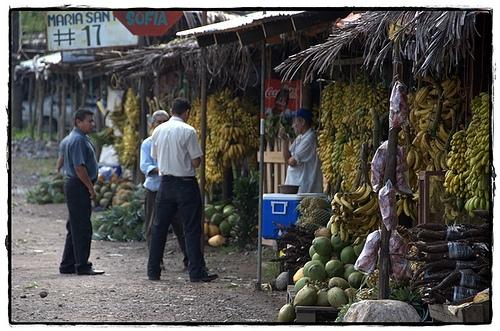banana: (353, 194, 375, 214), (362, 193, 380, 215), (353, 183, 371, 203), (410, 130, 426, 150), (406, 146, 416, 170), (412, 150, 422, 172), (357, 195, 371, 207), (440, 122, 449, 138), (475, 150, 488, 161), (403, 198, 410, 217), (340, 222, 346, 242), (435, 138, 444, 150), (322, 152, 332, 162), (419, 107, 433, 114), (342, 214, 353, 222), (239, 144, 246, 156), (482, 110, 490, 120), (462, 169, 472, 177), (232, 131, 238, 143), (474, 197, 480, 209), (426, 94, 438, 100), (342, 116, 350, 124), (476, 130, 484, 138), (346, 143, 353, 152), (446, 170, 456, 176), (325, 110, 331, 120), (346, 195, 352, 204), (454, 158, 460, 166), (472, 163, 476, 174), (352, 200, 358, 207), (230, 125, 234, 135), (348, 140, 352, 150), (226, 114, 230, 123), (486, 165, 490, 174), (451, 164, 457, 170), (328, 142, 334, 148), (350, 156, 356, 162), (212, 136, 216, 144), (360, 98, 368, 102), (209, 98, 213, 106), (224, 87, 228, 95), (221, 132, 225, 140), (195, 119, 201, 124), (323, 153, 329, 158), (466, 192, 470, 199), (338, 155, 342, 162), (212, 168, 216, 175), (216, 146, 220, 153), (192, 109, 196, 116), (127, 134, 134, 138), (472, 106, 478, 110), (226, 108, 230, 114), (242, 136, 246, 142), (320, 109, 324, 115), (338, 98, 342, 103), (367, 90, 372, 94), (342, 96, 346, 101), (326, 141, 332, 144), (346, 155, 349, 161), (480, 114, 484, 118), (132, 106, 136, 110), (131, 142, 135, 146), (128, 148, 132, 152), (250, 117, 252, 124), (127, 132, 134, 134), (242, 126, 244, 132), (351, 107, 354, 111), (340, 110, 343, 114), (194, 106, 198, 109), (190, 124, 194, 127), (475, 141, 478, 145), (216, 153, 218, 157), (355, 170, 357, 174), (212, 148, 214, 152), (326, 102, 328, 106), (211, 109, 214, 111), (344, 105, 346, 108), (352, 82, 354, 85), (220, 126, 222, 128)
pineapple: (310, 193, 334, 209), (308, 208, 330, 225), (410, 260, 426, 278), (356, 288, 376, 302), (366, 270, 379, 290), (300, 196, 315, 212), (300, 222, 325, 230), (338, 308, 348, 320)
